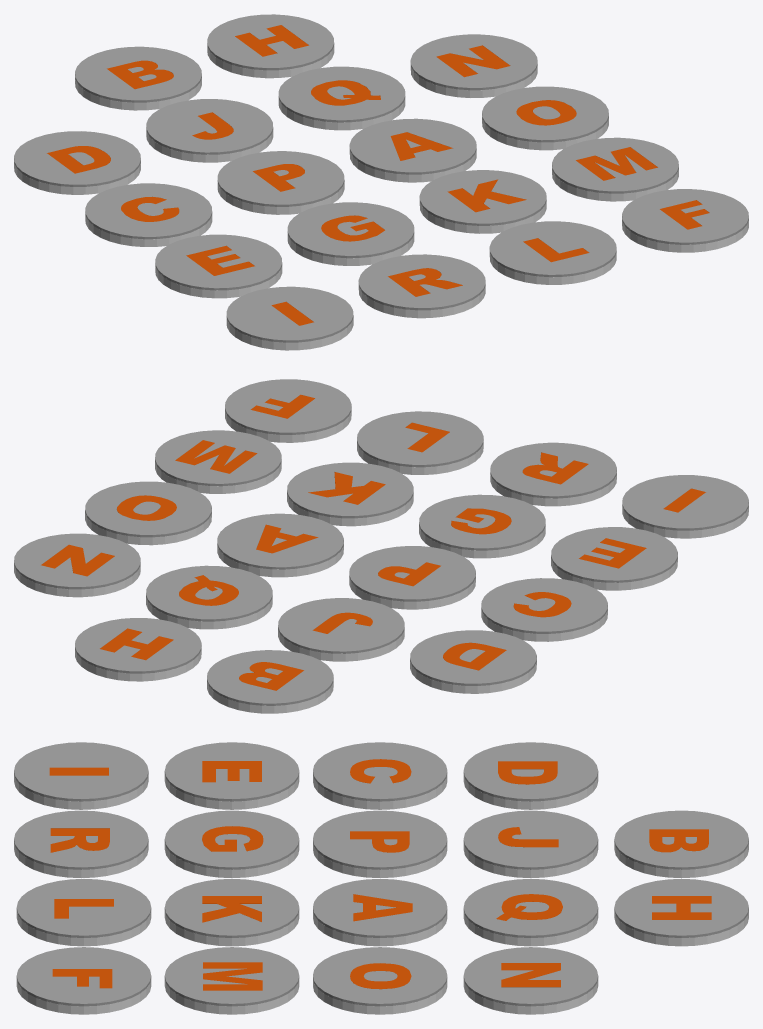
Rendered from number_tokens.glb.
3 views of the same model, one above another, from view 1: azimuth 30°, elevation 25°; view 2: azimuth 150°, elevation 25°; view 3: azimuth 270°, elevation 25° (orthographic). The views are drawn at different scales.
Parts seen in each view (by area): view 1: number_tokens; view 2: number_tokens; view 3: number_tokens.
Boxes of the visible parts, x1=… form: number_tokens: x1=14, y1=14, x2=748, y2=350; number_tokens: x1=14, y1=379, x2=748, y2=713; number_tokens: x1=14, y1=742, x2=748, y2=1014.
Size of the model in its own units: 115 by 2.2 by 136.
